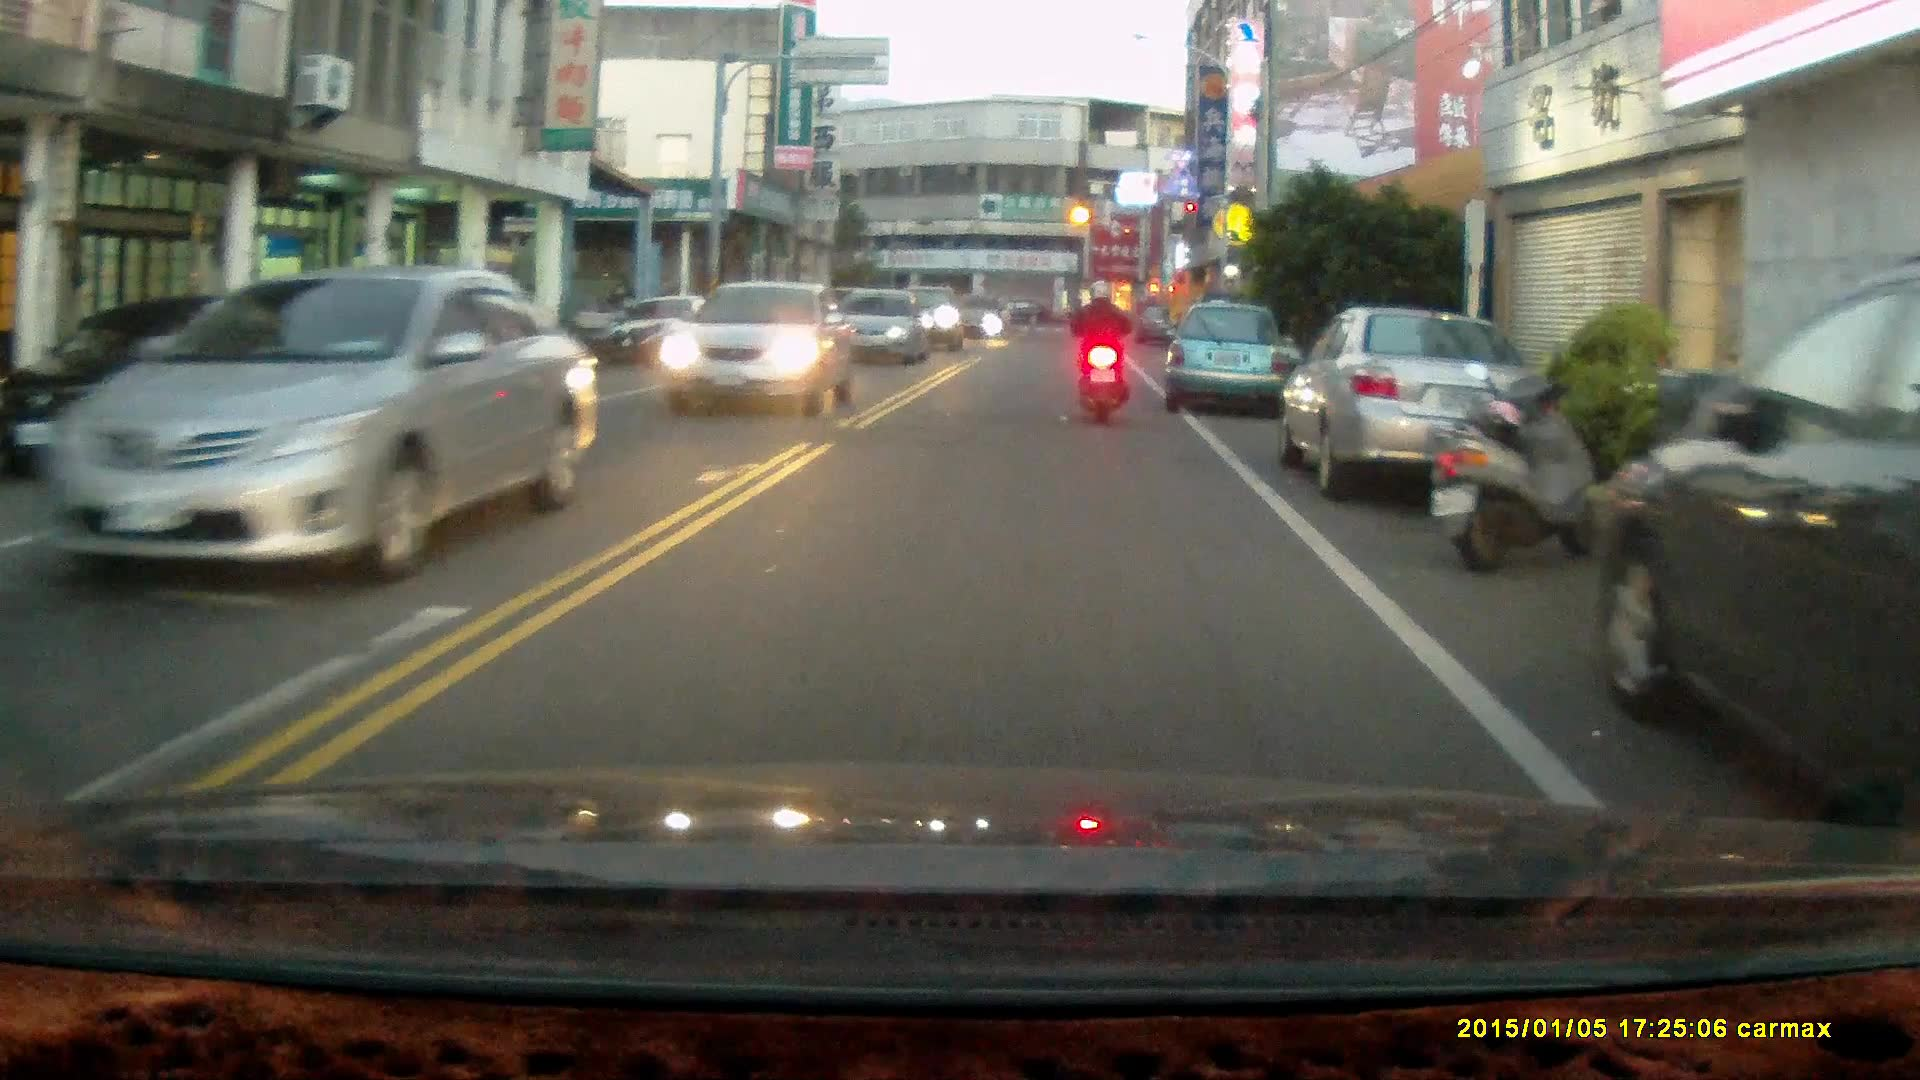rider: (1068, 275, 1128, 421)
vehicle: (1593, 257, 1920, 818), (43, 265, 595, 590), (1281, 302, 1539, 502), (654, 281, 854, 420), (1158, 300, 1292, 420), (824, 283, 935, 370)
